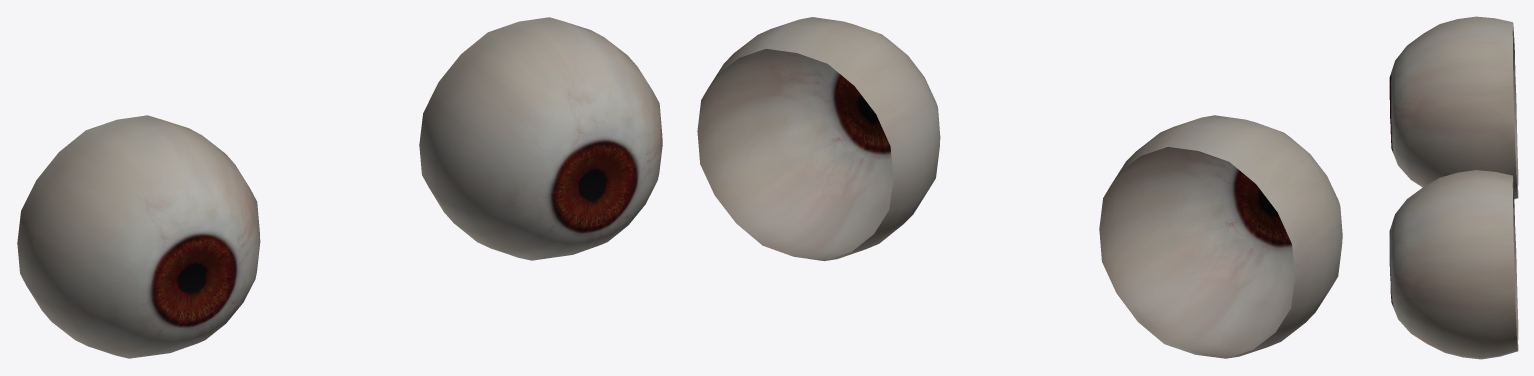
The model's file is eyes.glb.
3 renders of one model, left to right at view 1: azimuth 30°, elevation 25°; view 2: azimuth 150°, elevation 25°; view 3: azimuth 270°, elevation 25°, orthographic. The views are drawn at different scales.
Visible parts, largest first — view 1: editor_eyes; view 2: editor_eyes; view 3: editor_eyes.
Boxes of the visible parts, x1,y1,x2,y2 form: editor_eyes: (17,17,662,358); editor_eyes: (697,17,1342,358); editor_eyes: (1389,16,1518,359).
Size of the model in its own units: 0.0883 by 0.0304 by 0.0229.
Materials: 1 (1 with a texture image).
